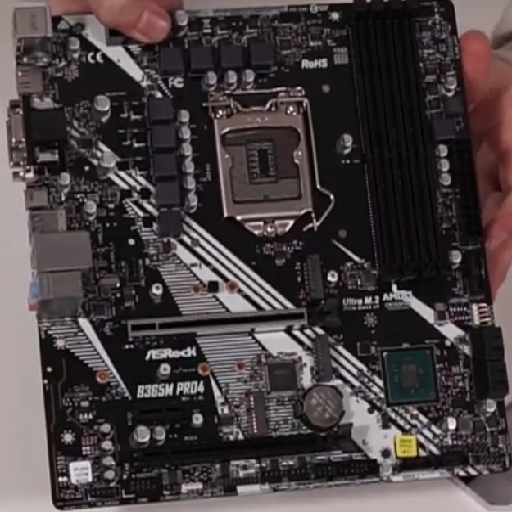CPU: (199, 79, 337, 240)
GPU: (126, 423, 365, 463), (121, 303, 316, 342)
MOTHERBOARD: (11, 3, 512, 480)
RAM: (344, 3, 460, 295)
SSD: (296, 253, 330, 309), (309, 328, 340, 386)
